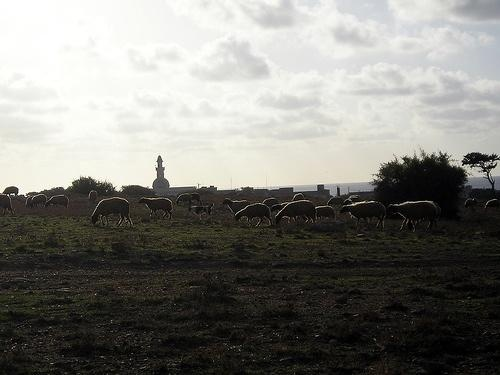sheep: (389, 202, 440, 234), (92, 199, 132, 229), (341, 202, 387, 227), (277, 202, 316, 225), (235, 204, 273, 227), (141, 197, 172, 218), (224, 199, 247, 213), (44, 197, 70, 208), (1, 195, 14, 217), (316, 206, 336, 220), (29, 195, 46, 206), (174, 193, 192, 203), (486, 200, 500, 211), (465, 199, 479, 210), (263, 197, 277, 208), (328, 198, 345, 207), (273, 204, 288, 212), (4, 187, 19, 195), (292, 194, 304, 202)
